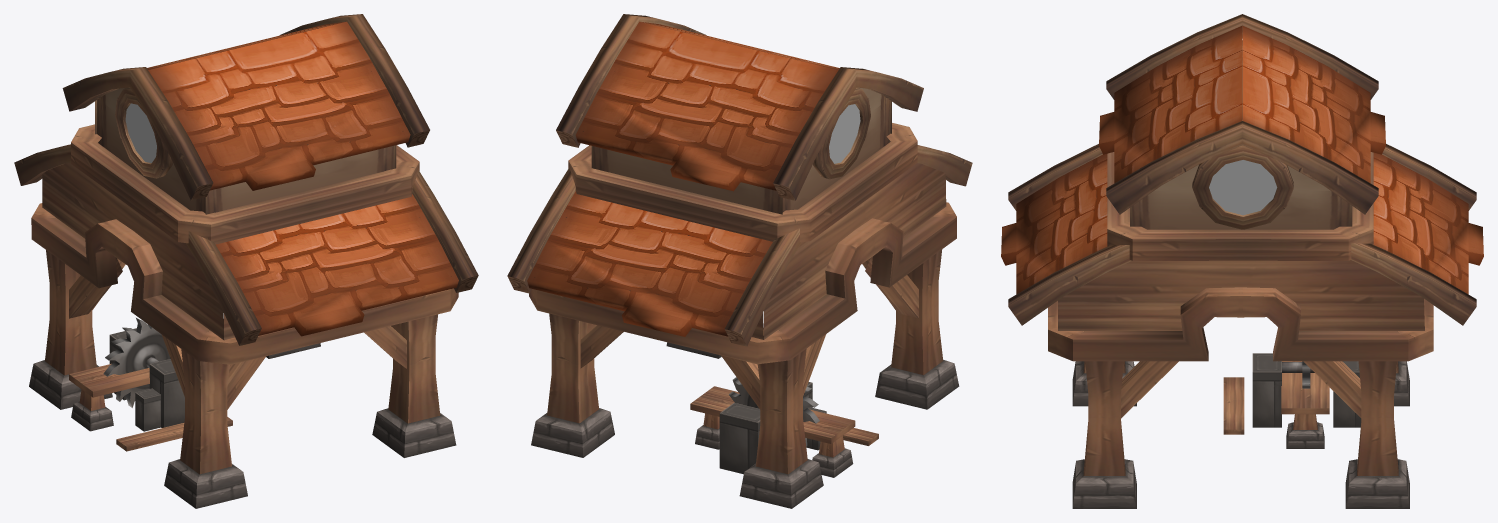
File: building-7.FBX
3 views of the same model, side by side, from view 1: azimuth 30°, elevation 25°; view 2: azimuth 150°, elevation 25°; view 3: azimuth 270°, elevation 25° (orthographic).
Visible parts, largest first — view 1: building-7, building-7 - lights on; view 2: building-7, building-7 - lights on; view 3: building-7, building-7 - lights on.
Part boxes in pixels (box(x1,y1,x2,y2)): building-7: box(14, 14, 478, 508); building-7 - lights on: box(125, 103, 156, 162); building-7: box(507, 14, 972, 508); building-7 - lights on: box(829, 104, 860, 163); building-7: box(1001, 14, 1483, 508); building-7 - lights on: box(1209, 160, 1277, 215).
Bounding box in the file's own units: 906 × 1224 × 1426.
